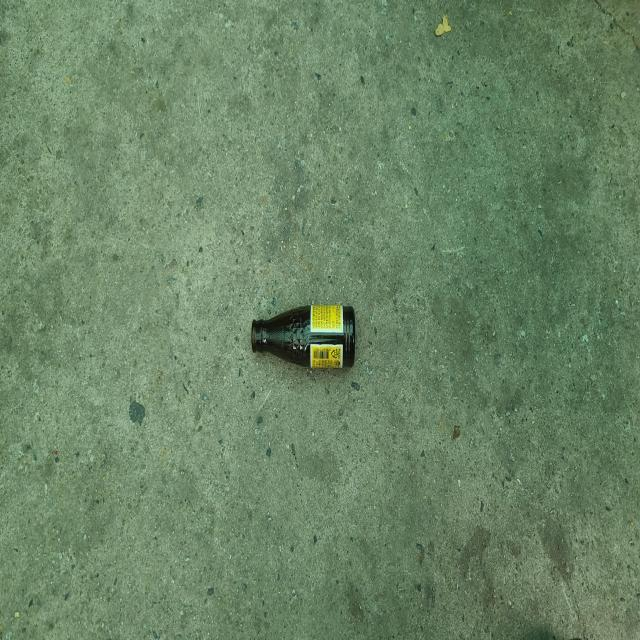glass: (252, 304, 356, 368)
